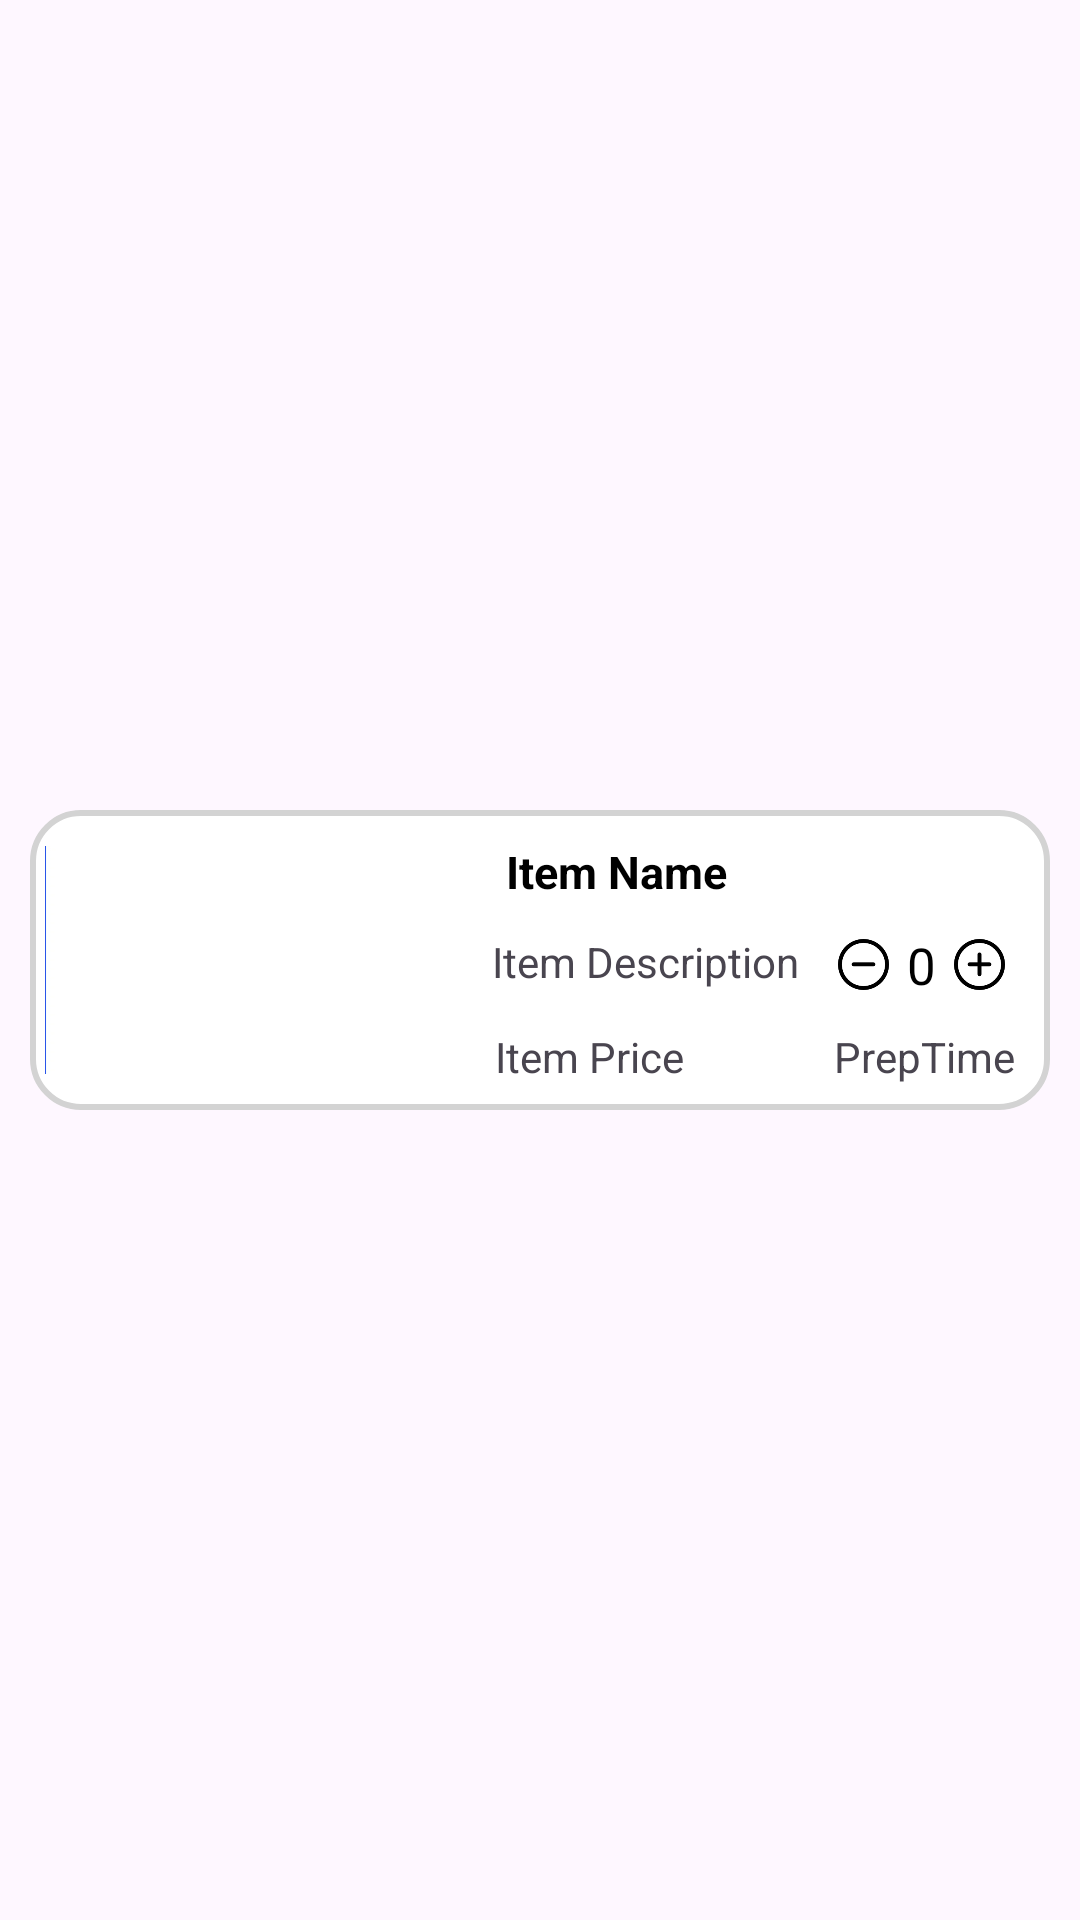

Icon bounding boxes for this 1080px×1920px phone screenshot, format (x1, y1, x2, y2):
minus: (838, 939, 889, 990)
plus: (954, 939, 1005, 990)
